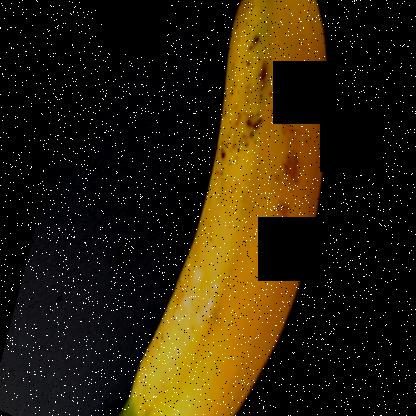ripe: (117, 5, 333, 415)
